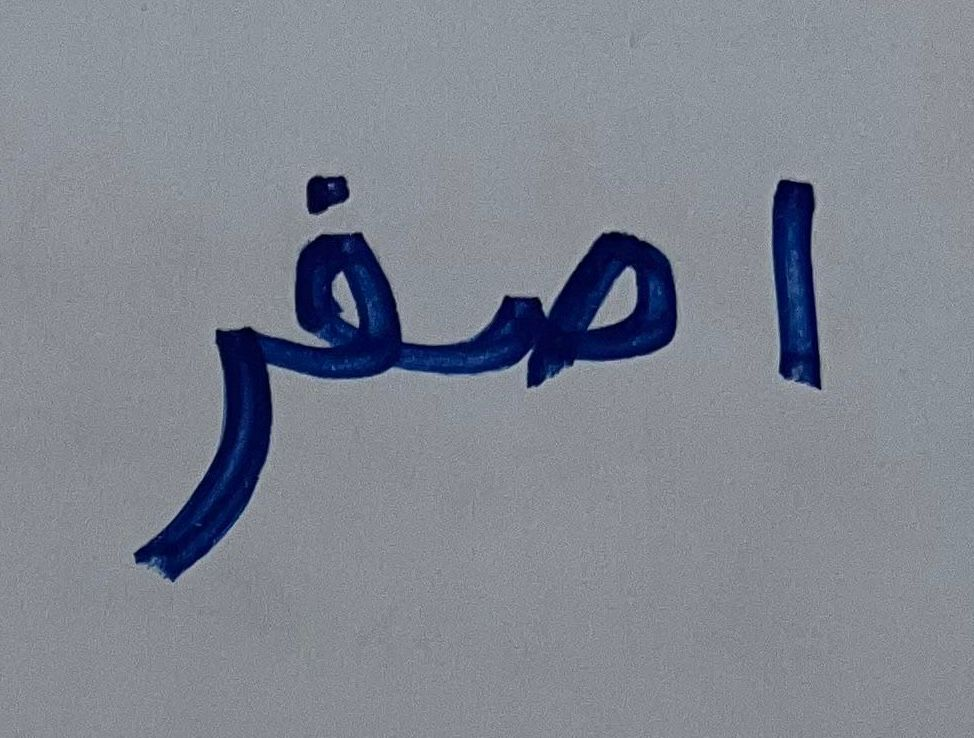ghain: (731, 110, 861, 449)
qaf: (284, 155, 438, 421)
reh: (113, 290, 278, 591)
sad: (449, 190, 714, 434)
